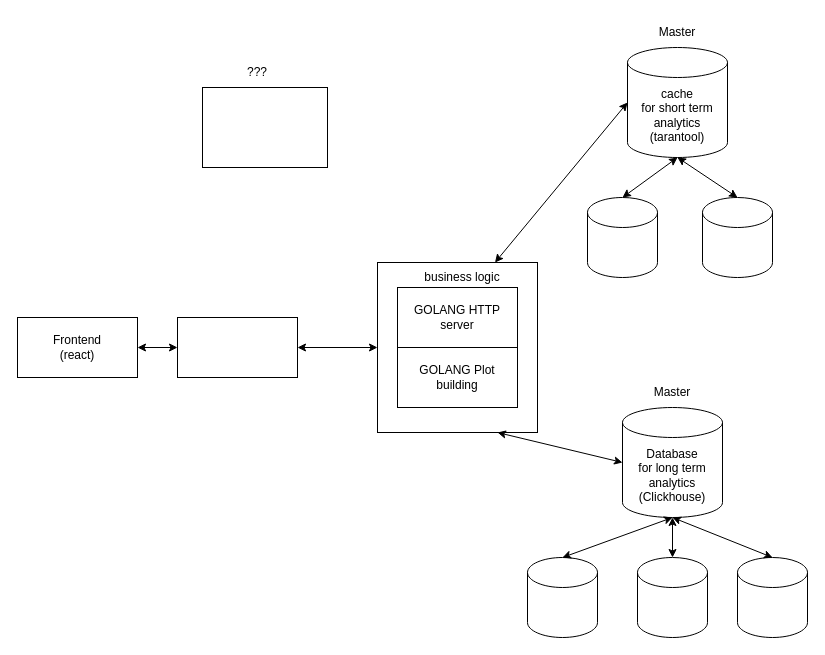
The diagram is 825 pixels wide and 655 high, and some of its shapes have lost their labels. The shapes that lost their labels are listed below. From the top down, each one's centre as x and y in pixels, then its label:
pixel 265 127: Crypto currence stock exchange kernel (RUST/C++)
pixel 237 347: balancer(nginx)
